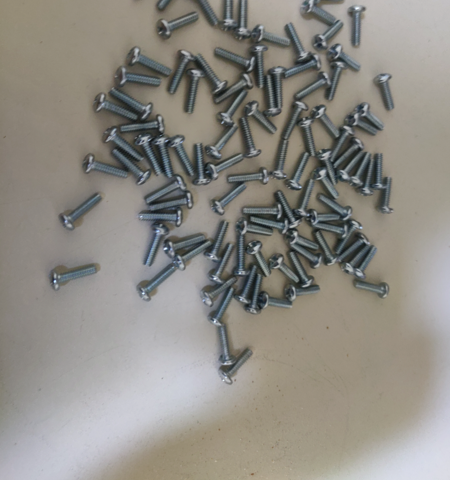shortscrew: (136, 265, 177, 303), (60, 194, 102, 231), (102, 126, 144, 163), (109, 88, 154, 121), (110, 149, 151, 184), (92, 94, 138, 123), (126, 47, 171, 76), (196, 54, 227, 96), (218, 348, 253, 385), (205, 122, 238, 160), (156, 11, 200, 39), (51, 264, 98, 290), (82, 154, 130, 179), (145, 175, 186, 204), (217, 90, 249, 127), (214, 74, 253, 104), (211, 184, 247, 216), (170, 50, 196, 94), (168, 135, 195, 177), (201, 277, 238, 307), (174, 241, 211, 271), (209, 286, 236, 327), (136, 134, 162, 176), (275, 190, 302, 230), (145, 223, 169, 267), (163, 236, 205, 261), (312, 19, 344, 51), (152, 135, 175, 179), (335, 220, 363, 256), (214, 48, 256, 72), (205, 221, 229, 263), (283, 101, 309, 139), (287, 25, 312, 64), (239, 117, 262, 159), (246, 241, 272, 278), (336, 233, 368, 263), (317, 195, 353, 221), (333, 138, 364, 168), (342, 243, 371, 275), (269, 254, 301, 283), (336, 151, 365, 183), (314, 230, 339, 267), (328, 44, 361, 72), (312, 105, 340, 138), (138, 208, 184, 228), (115, 66, 161, 86), (287, 151, 310, 191), (210, 244, 233, 284), (286, 54, 322, 79), (290, 252, 314, 289), (302, 0, 336, 26), (186, 69, 206, 113), (149, 192, 193, 212), (293, 179, 315, 219), (217, 324, 237, 366), (244, 273, 264, 315), (327, 61, 348, 101), (189, 0, 220, 27), (253, 25, 291, 47), (346, 111, 378, 137), (263, 75, 282, 118), (192, 144, 211, 187), (118, 115, 166, 132), (356, 103, 385, 131), (270, 140, 290, 180), (291, 244, 323, 269), (298, 117, 317, 158), (268, 67, 286, 110), (349, 5, 367, 47), (250, 46, 268, 88), (354, 246, 376, 280), (349, 153, 371, 187), (353, 280, 390, 300), (375, 74, 395, 111), (227, 168, 270, 185), (242, 203, 284, 220), (236, 218, 273, 237), (235, 0, 252, 41), (217, 0, 238, 32), (258, 291, 293, 310), (285, 283, 321, 301), (358, 158, 375, 196), (286, 230, 318, 250), (378, 177, 393, 214), (372, 154, 386, 190), (156, 0, 192, 11), (309, 0, 346, 4)
